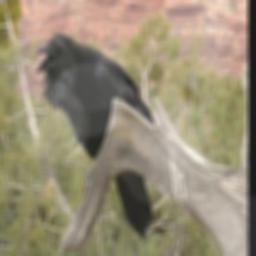Crow: (33, 32, 155, 240)
